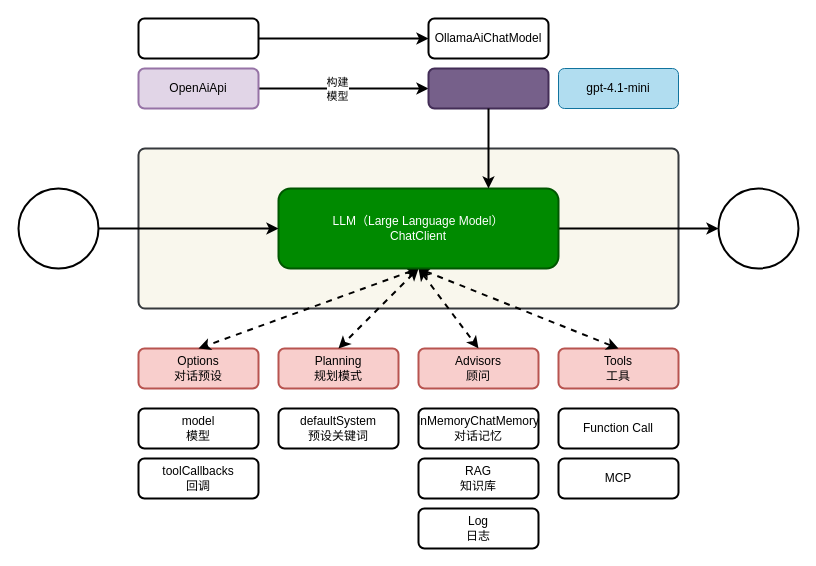
The diagram is 816 pixels wide and 566 high, and some of its shapes have lost their labels. Here are the shapes that lost their labels. From the top down, the box of each, then its label:
(137, 17, 259, 59): OllamaAiApi
(427, 67, 549, 109): OpenAiChatModel
(17, 187, 99, 269): IN
(717, 187, 799, 269): OUT
